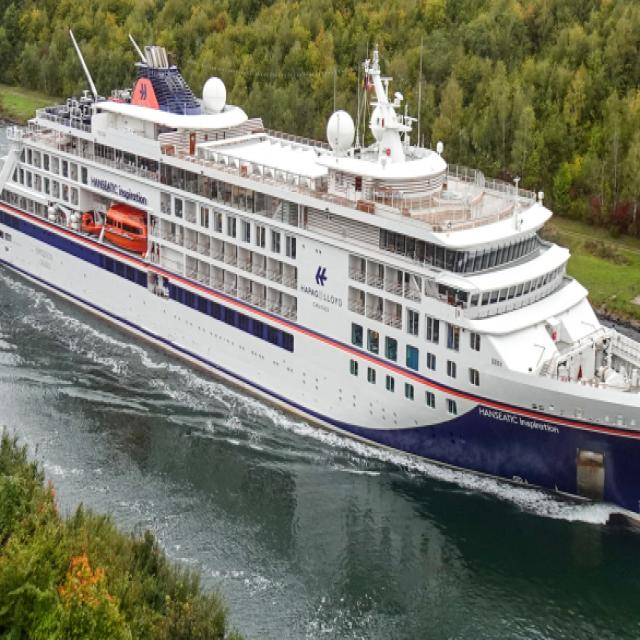cruises: (1, 26, 640, 548)
